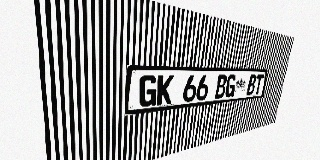6: (182, 75, 198, 102), (195, 75, 210, 101)
B: (214, 75, 228, 99), (246, 75, 257, 95)
G: (138, 75, 158, 107), (224, 75, 237, 98)
K: (156, 75, 174, 105)
T: (253, 75, 264, 94)
